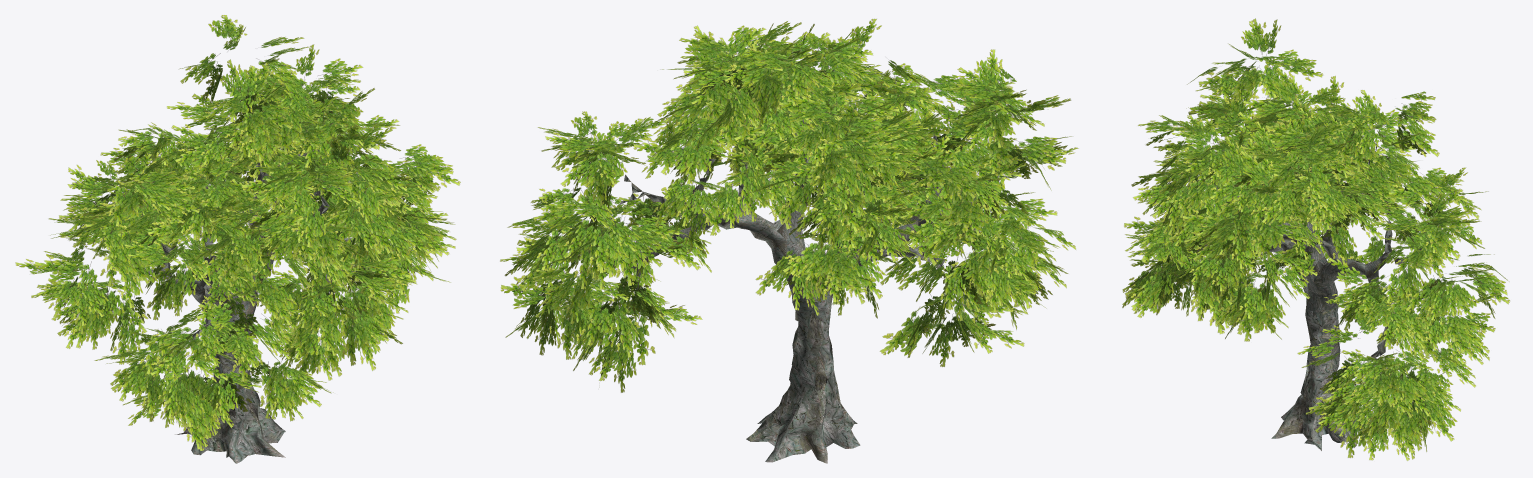
The model's file is tree-green.glb.
3 renders of one model, left to right at view 1: azimuth 30°, elevation 25°; view 2: azimuth 150°, elevation 25°; view 3: azimuth 270°, elevation 25°, orthographic. The views are drawn at different scales.
Parts seen in each view (by area): view 1: leaves, crona; view 2: leaves, crona; view 3: leaves, crona.
Boxes of the visible parts, x1,y1,x2,y2 form: leaves: (15,15,460,451); crona: (144,149,360,463); leaves: (500,18,1078,392); crona: (614,119,990,463); leaves: (1122,18,1509,460); crona: (1197,143,1432,450).
Bounding box in the file's own units: 28.71 × 21.84 × 22.6.
2 materials, 2 textured.
